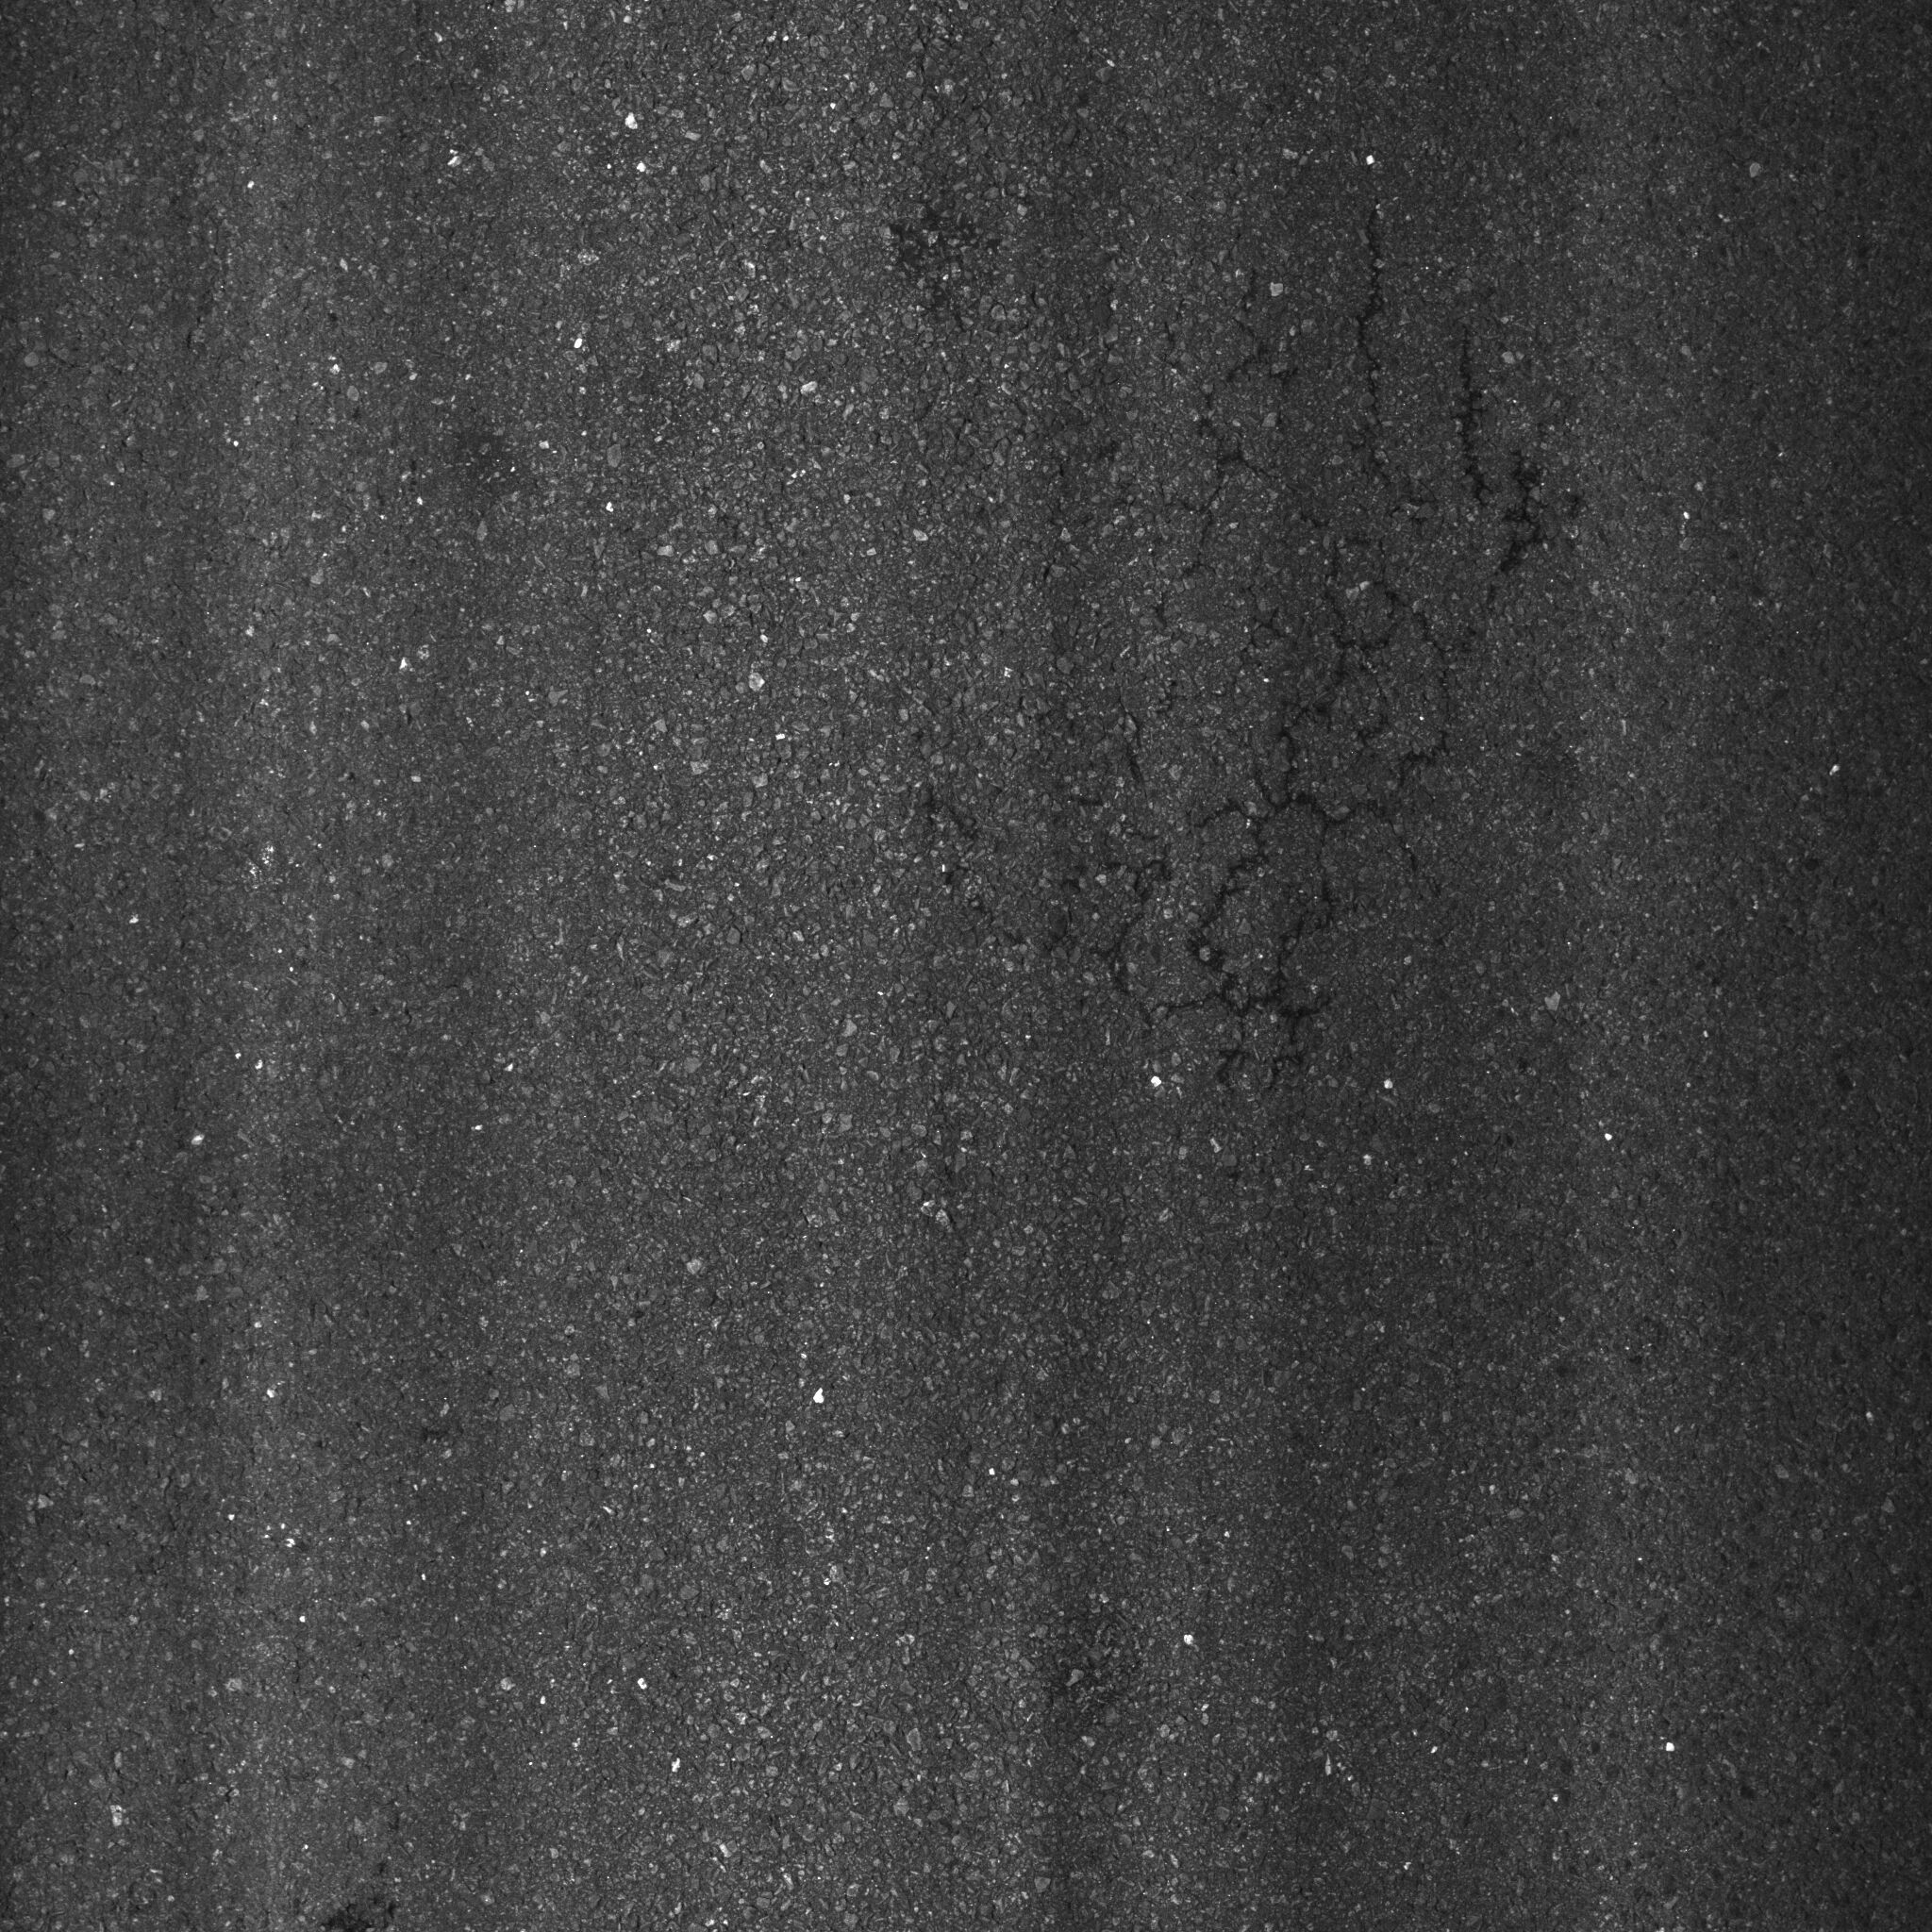alligator: (909, 221, 1585, 1070)
